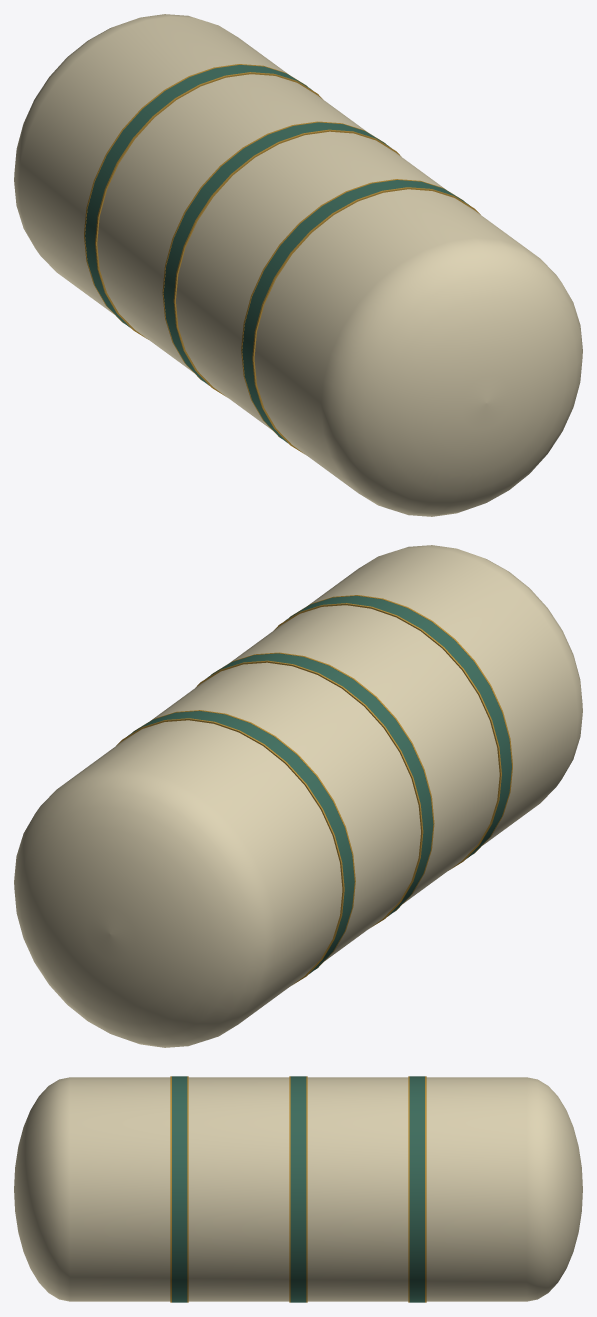
The model's file is tank4200_tank.obj.
3 renders of one model, top to bottom at view 1: azimuth 30°, elevation 25°; view 2: azimuth 150°, elevation 25°; view 3: azimuth 270°, elevation 25°, orthographic. The views are drawn at different scales.
Parts seen in each view (by area): view 1: tank4200_tank; view 2: tank4200_tank; view 3: tank4200_tank.
Boxes of the visible parts, box(x1,y1,x2,y2) form: tank4200_tank: box(14, 14, 582, 516); tank4200_tank: box(14, 545, 582, 1047); tank4200_tank: box(14, 1076, 582, 1302).
Bounding box in the file's own units: 12.12 × 12.12 × 30.4.
